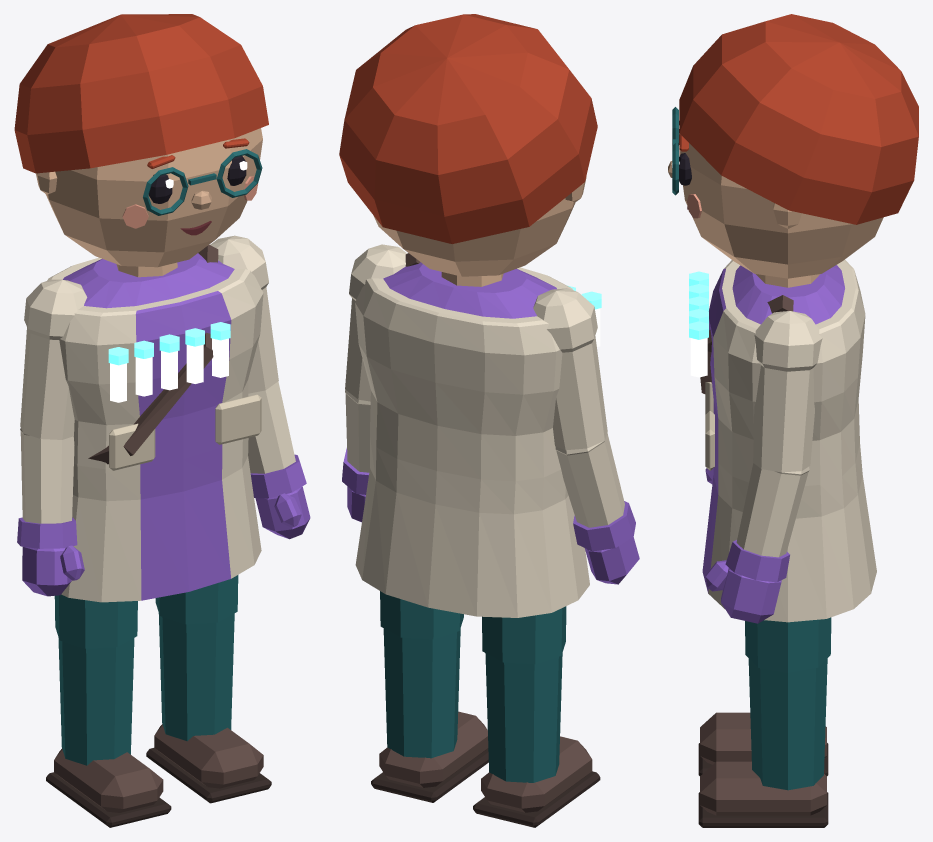
File: spo-n1.glb
3 renders of one model, left to right at view 1: azimuth 30°, elevation 25°; view 2: azimuth 150°, elevation 25°; view 3: azimuth 270°, elevation 25°, orthographic.
Visible parts, largest first — view 1: mantel, haare, kopf, arm_r, bein_r, bein_l, arm_l, accessoire_vials, schuh_r, schuh_l, torso, gesicht (+4 smaller); view 2: mantel, haare, arm_r, bein_r, bein_l, kopf, arm_l, torso, schuh_r, schuh_l, hand_r, accessoire_vials (+1 smaller); view 3: haare, mantel, arm_l, bein_l, kopf, schuh_l, torso, schuh_r, hand_l, accessoire_vials, gesicht, taschen (+1 smaller).
Part boxes in pixels (x1,y1,x2,y2): mantel: (47,257,263,602); haare: (14,14,268,173); kopf: (36,128,262,267); arm_r: (17,279,87,548); bein_r: (54,594,137,765); bein_l: (155,575,238,741); arm_l: (210,235,306,498); accessoire_vials: (88,244,230,464); schuh_r: (46,748,171,827); schuh_l: (146,724,271,803); torso: (63,253,234,308); gesicht: (122,138,262,235); mantel: (355,267,589,617); haare: (339,14,597,243); arm_r: (533,288,635,551); bein_r: (482,606,566,782); bein_l: (380,591,463,758); kopf: (373,176,586,276); arm_l: (342,244,406,494); torso: (383,262,556,318); schuh_r: (473,736,600,827); schuh_l: (371,711,488,802); hand_r: (584,536,639,584); accessoire_vials: (405,253,601,346); haare: (679,14,918,224); mantel: (702,259,876,622); arm_l: (725,311,822,582); bein_l: (745,617,831,790); kopf: (679,133,883,278); schuh_l: (698,761,828,827); torso: (732,265,844,324); schuh_r: (698,712,828,775); hand_l: (705,560,781,623); accessoire_vials: (689,271,793,393); gesicht: (668,107,701,218); taschen: (705,382,714,470).
Bounding box in the file's own units: 0.01 × 0.0255 × 0.00764.
